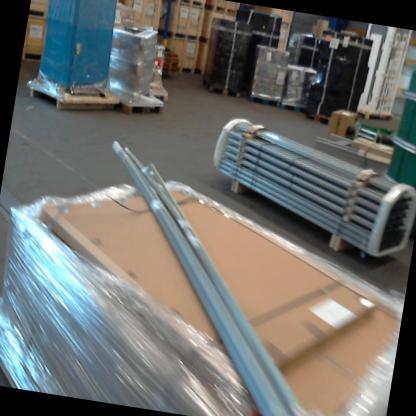pallet: (106, 83, 165, 119), (203, 82, 241, 97), (204, 2, 238, 17), (302, 110, 332, 126), (247, 94, 280, 108), (149, 83, 170, 102), (279, 101, 308, 114), (169, 30, 201, 41), (170, 0, 205, 9), (175, 64, 196, 76)
